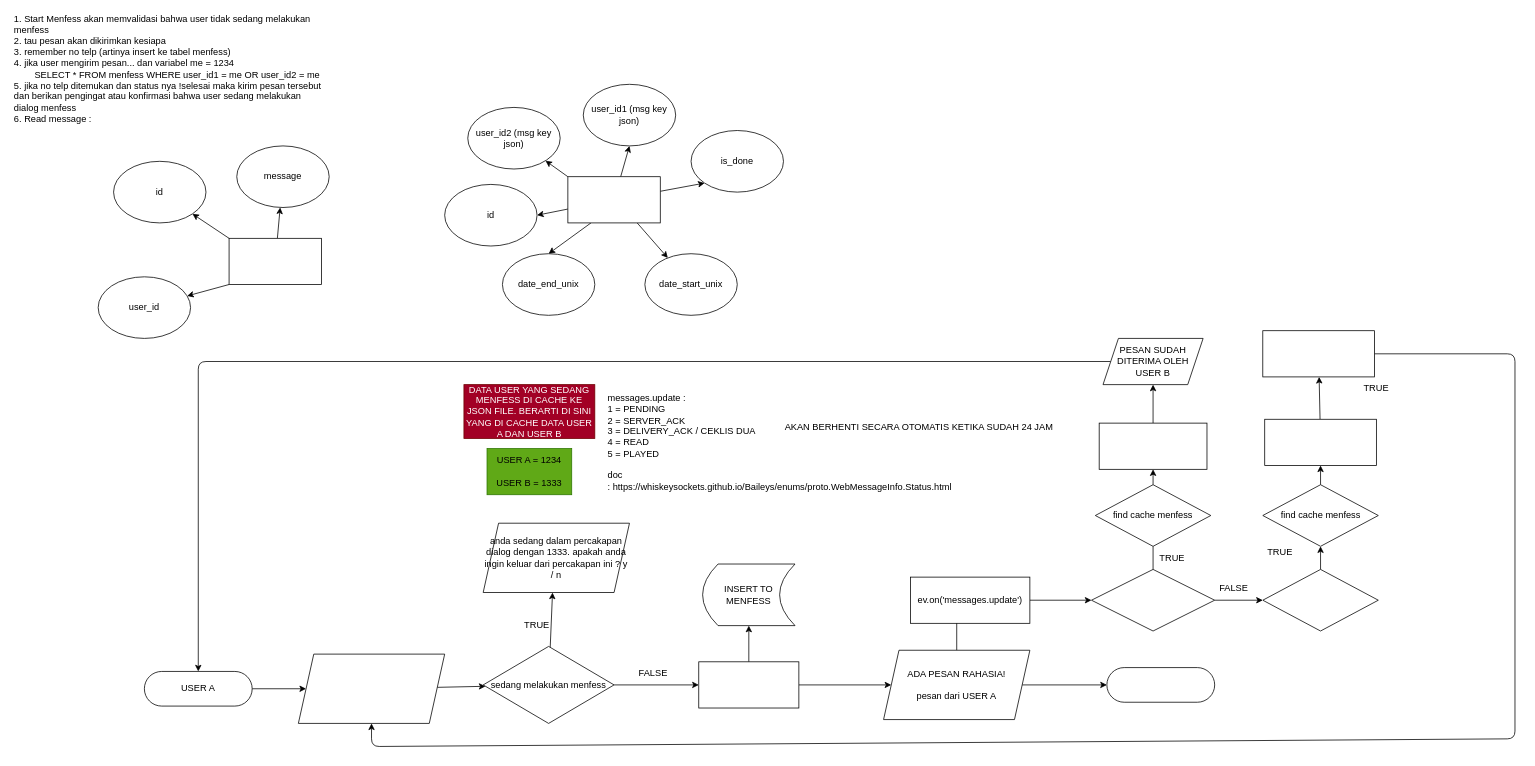
The diagram is 1535 pixels wide and 766 high, and some of its shapes have lost their labels. The box of each missing label's shape, as (x1, y1, x2, y2) in pixels:
.menfess 1333 MESSAGES: (298, 653, 445, 723)
BOT kirim pesan ke USER B: (698, 661, 799, 708)
emit('menfess.berhasil', {keyMsg}): (1098, 422, 1207, 469)
emit('menfess.read', {keyMsg}): (1264, 418, 1376, 465)
menfess: (567, 176, 660, 223)
menfess_message: (228, 238, 321, 285)
reactMessage(readIcon): (1262, 330, 1374, 377)
update == 3 && jId == 1234: (1091, 569, 1215, 631)
update == 4: (1262, 569, 1378, 631)
USER B: (1106, 667, 1215, 702)
